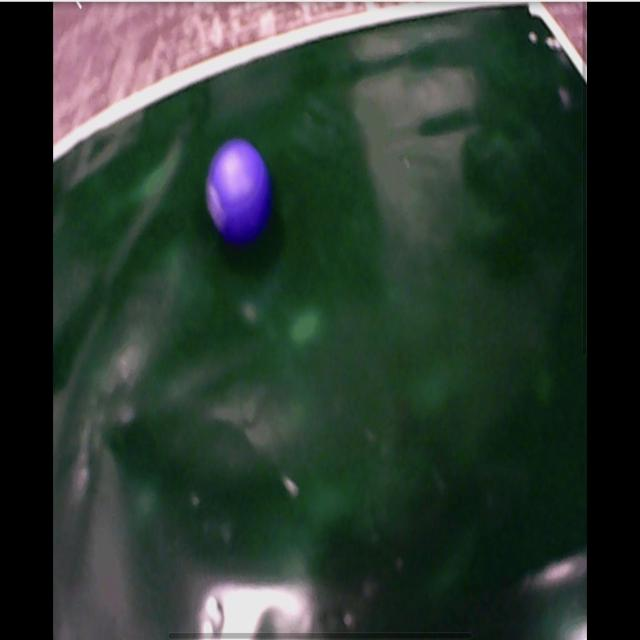ball: (209, 139, 271, 238)
